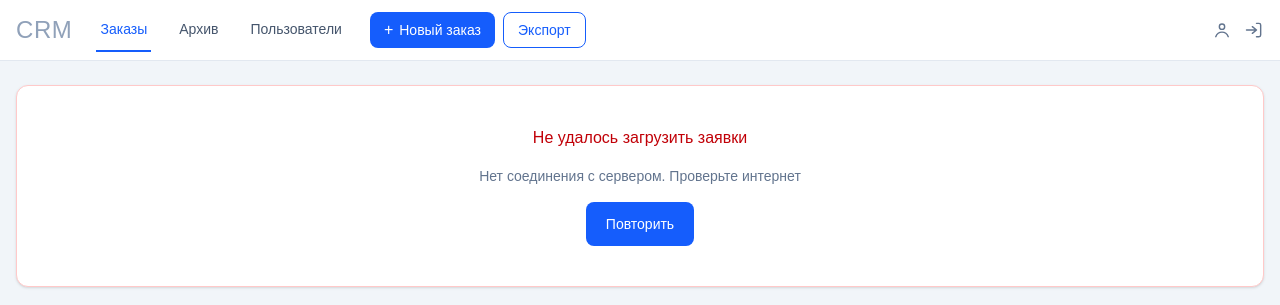
Scenario: OrdersPage — деградация сети при загрузке заявок › кнопка «Повторить» повторно запрашивает заявки и восстанавливает список после успеха
Step 1. Click the button "Повторить" → (640, 224), box [586, 202, 694, 246]
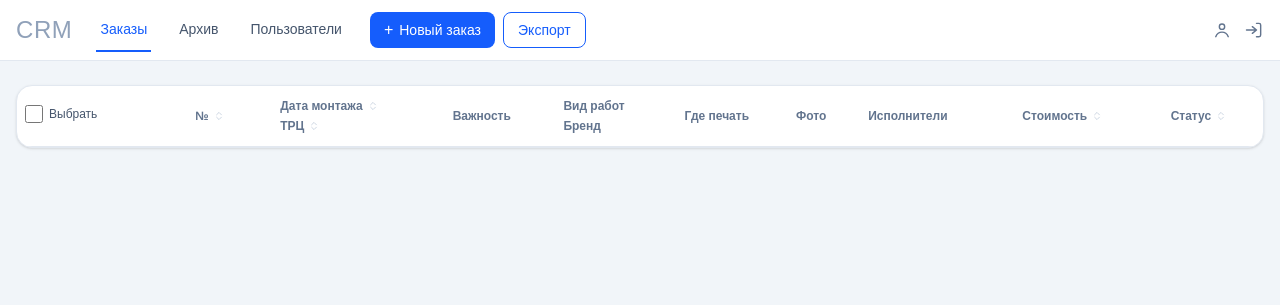
Result: the text "Не удалось загрузить заявки" is gone
